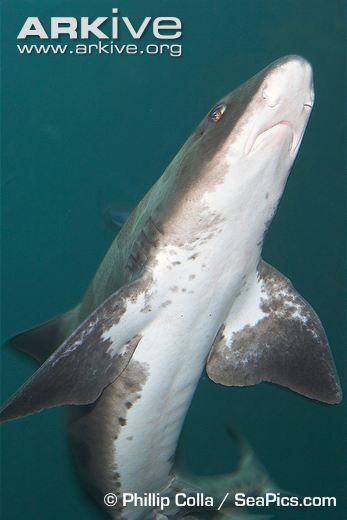shark: (22, 53, 340, 507)
